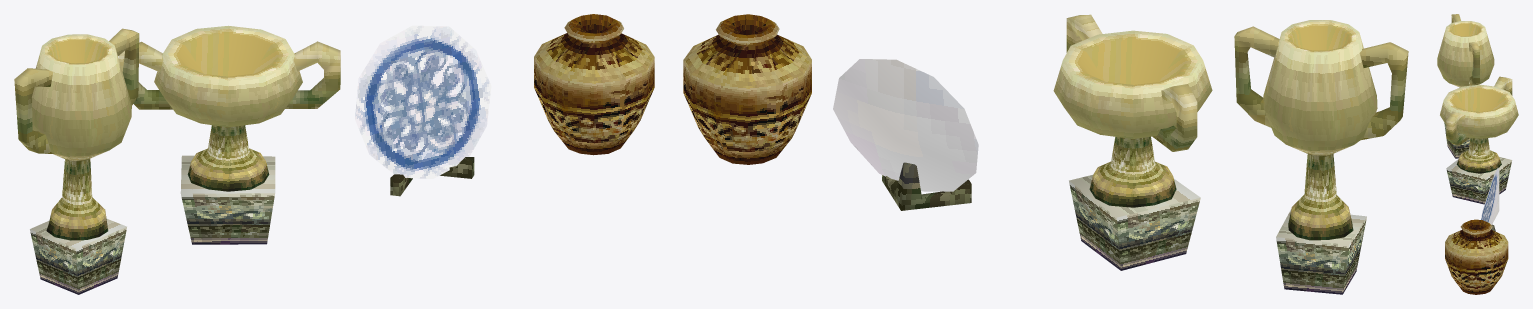
The model's file is a_groc_1.glb.
The picture shows the model from 3 angles, left to right: view 1: azimuth 30°, elevation 25°; view 2: azimuth 150°, elevation 25°; view 3: azimuth 270°, elevation 25°; orthographic projection. The views are drawn at different scales.
Parts seen in each view (by area): view 1: a_groc_1; view 2: a_groc_1; view 3: a_groc_1.
Boxes of the visible parts, x1=… form: a_groc_1: x1=14, y1=14, x2=654, y2=294; a_groc_1: x1=683, y1=14, x2=1408, y2=294; a_groc_1: x1=1437, y1=14, x2=1518, y2=294.
Size of the model in its own units: 309 by 104 by 63.
4 materials, 4 textured.
